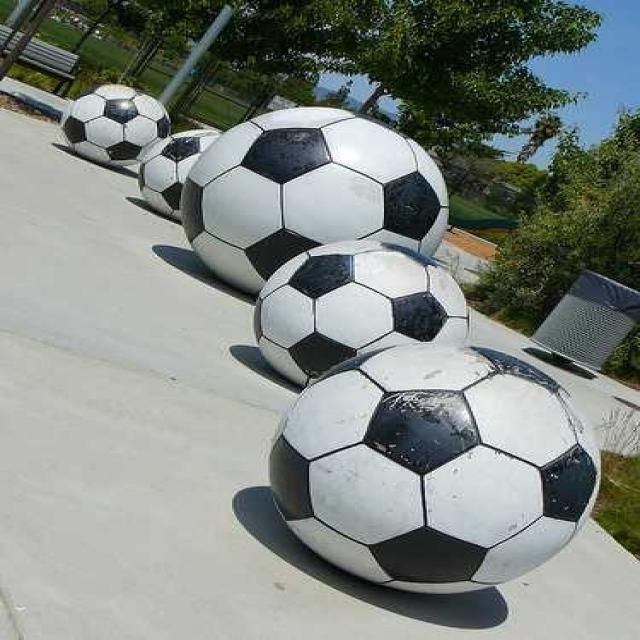ball: (266, 342, 599, 596), (183, 105, 451, 298), (253, 242, 471, 388), (63, 83, 169, 170), (136, 127, 229, 220)
